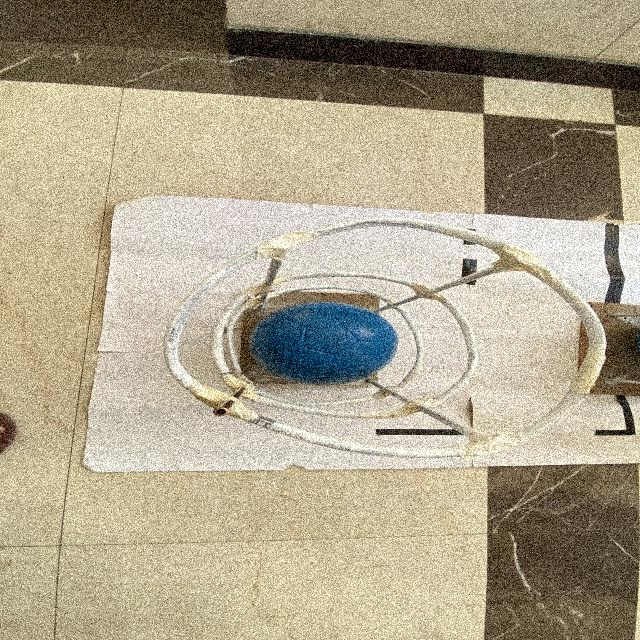blue_ball: (246, 291, 413, 394)
silo: (148, 217, 606, 451)
